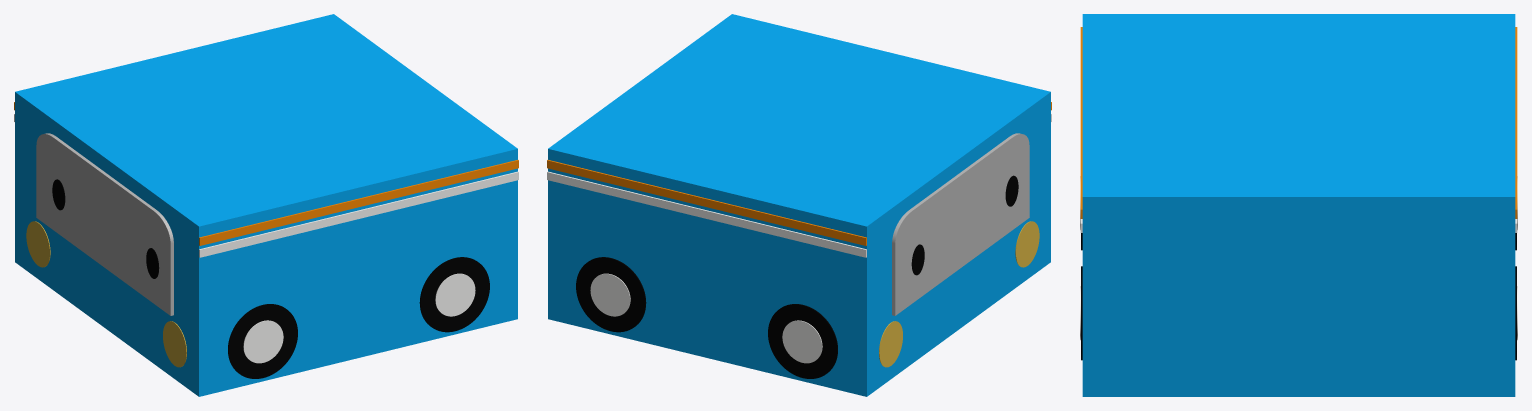
File: car.fbx
The picture shows the model from 3 angles, left to right: view 1: azimuth 30°, elevation 25°; view 2: azimuth 150°, elevation 25°; view 3: azimuth 270°, elevation 25°; orthographic projection. The views are drawn at different scales.
Visible parts, largest first — view 1: blue, GREY, black, white, orange, yellow; view 2: blue, GREY, black, white, orange, yellow; view 3: blue, orange, black.
Boxes of the visible parts, x1,y1,x2,y2 form: blue: (15,14,517,396); GREY: (36,133,173,315); black: (52,179,489,378); white: (14,114,518,363); orange: (14,102,518,245); yellow: (26,221,186,367); blue: (548,14,1050,396); GREY: (892,133,1029,315); black: (576,175,1018,378); white: (547,114,1051,363); orange: (547,102,1051,245); yellow: (879,221,1039,367); blue: (1082,14,1515,396); orange: (1080,27,1517,218); black: (1081,233,1516,360).
Bounding box in the file's own units: 2976 × 1500 × 2974.
